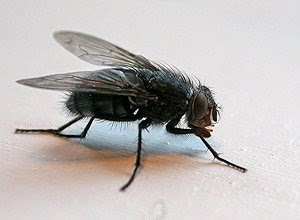house fly: (11, 28, 247, 194)
